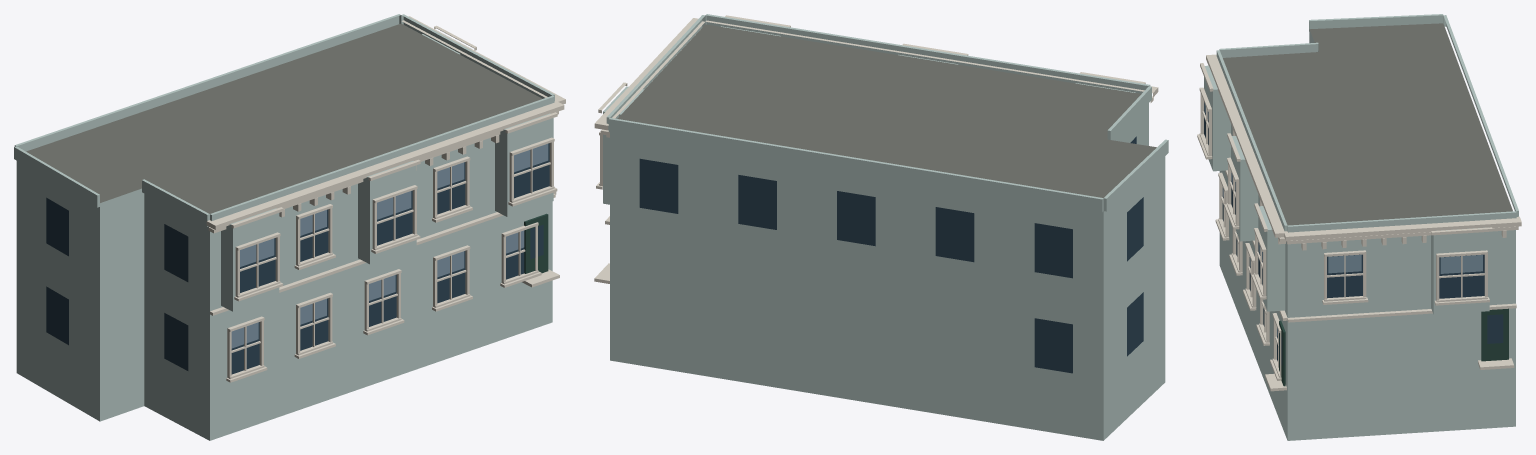
3 views of the same model, side by side, from view 1: azimuth 30°, elevation 25°; view 2: azimuth 150°, elevation 25°; view 3: azimuth 270°, elevation 25° (orthographic). The views are drawn at different scales.
Parts seen in each view (by area): view 1: Footprint 0 / surface 2, Footprint 0 / surface 1, Cornices and window frames, Facade bay volumes, Inset glazing, Sky reflection panels, Storefronts and doors; view 2: Footprint 0 / surface 2, Footprint 0 / surface 1, Facade bay volumes, Inset glazing, Cornices and window frames; view 3: Footprint 0 / surface 1, Footprint 0 / surface 2, Cornices and window frames, Facade bay volumes, Inset glazing, Sky reflection panels, Storefronts and doors.
Boxes of the visible parts, <box> form: Footprint 0 / surface 2: <box>16,138,552,440</box>; Footprint 0 / surface 1: <box>26,23,542,213</box>; Cornices and window frames: <box>206,16,565,382</box>; Facade bay volumes: <box>14,14,554,311</box>; Inset glazing: <box>46,143,549,374</box>; Sky reflection panels: <box>231,143,548,348</box>; Storefronts and doors: <box>524,213,548,273</box>; Footprint 0 / surface 2: <box>610,103,1165,440</box>; Footprint 0 / surface 1: <box>617,24,1156,197</box>; Facade bay volumes: <box>603,14,1168,212</box>; Inset glazing: <box>639,136,1143,373</box>; Cornices and window frames: <box>594,15,1158,283</box>; Footprint 0 / surface 1: <box>1223,23,1512,225</box>; Footprint 0 / surface 2: <box>1219,29,1515,440</box>; Cornices and window frames: <box>1197,54,1521,391</box>; Facade bay volumes: <box>1204,14,1518,314</box>; Inset glazing: <box>1204,102,1503,365</box>; Sky reflection panels: <box>1204,103,1482,337</box>; Storefronts and doors: <box>1279,308,1508,386</box>.
Size of the model in its own units: 20.32 by 9.4 by 12.83.
